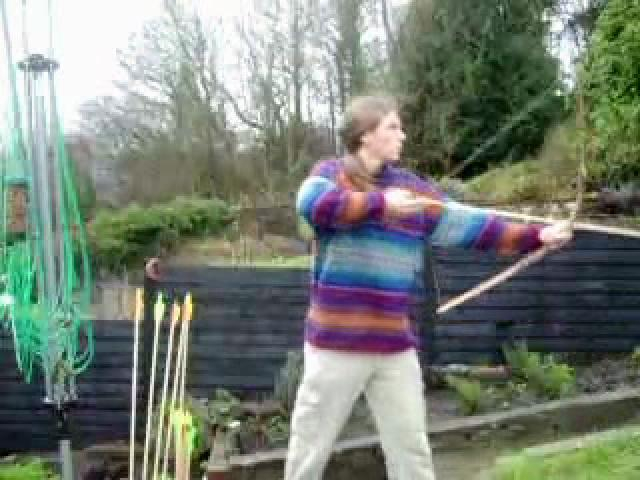I: (272, 96, 568, 475)
